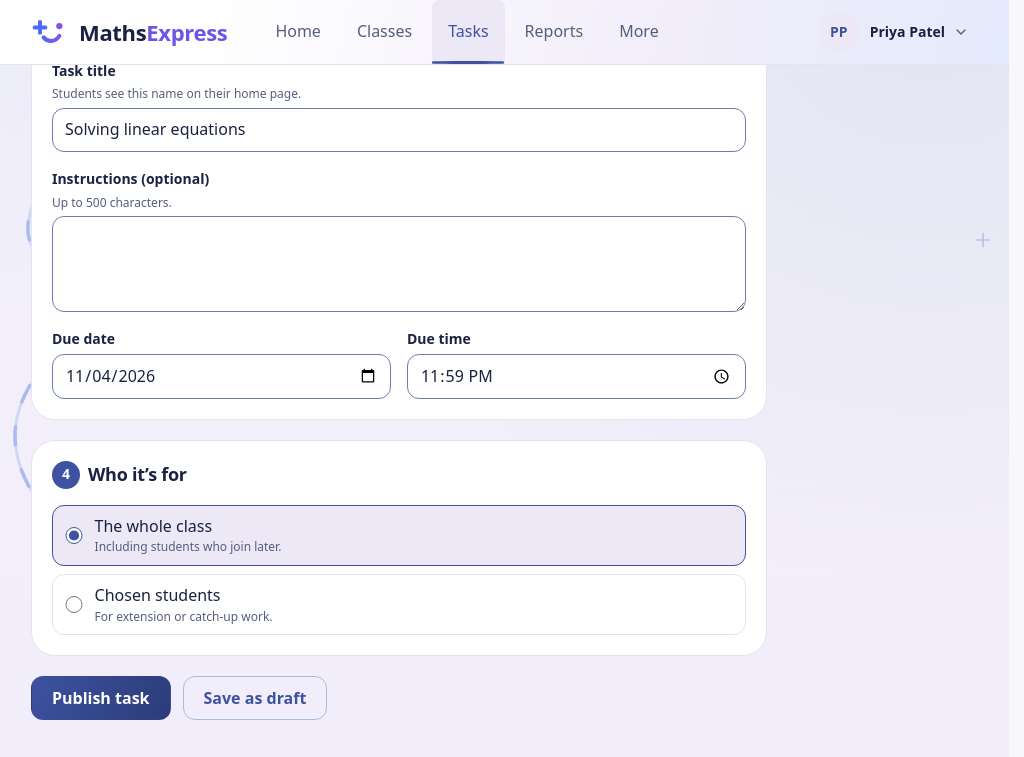
creating a task › saves a draft that students can’t see, and publishes it later
(page scrolled)
Click the button "Save as draft": (255, 698) [182,676,327,720]
(page scrolled)
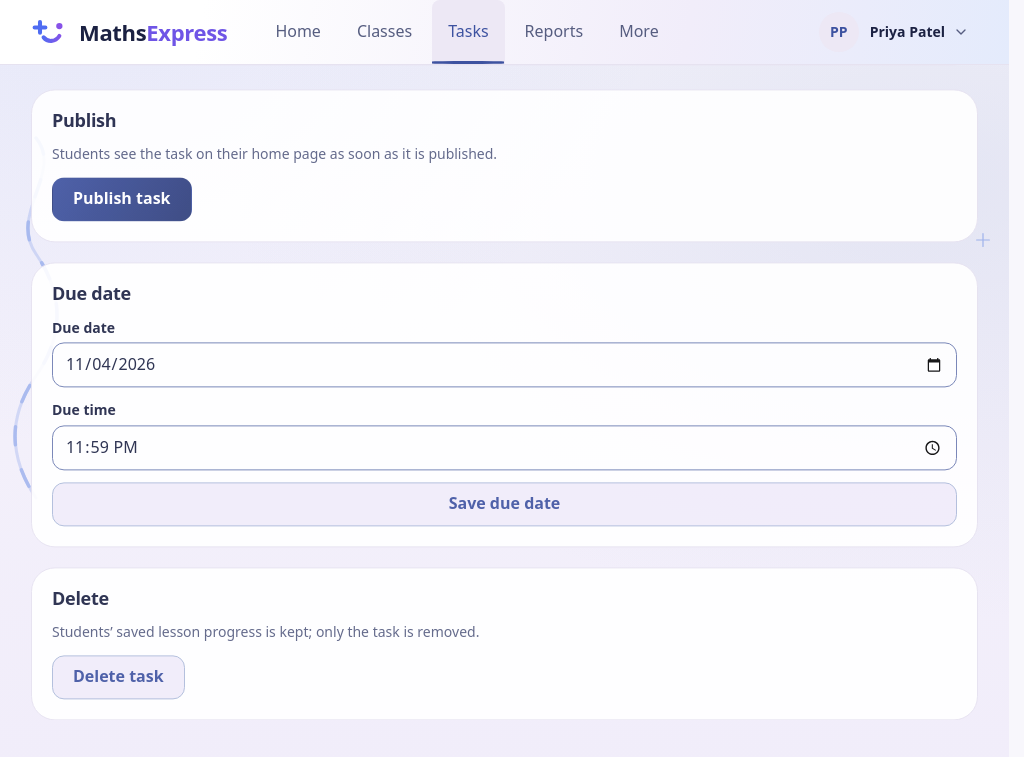
Click the button "Publish task": (122, 199) [52,177,192,221]
(page scrolled)
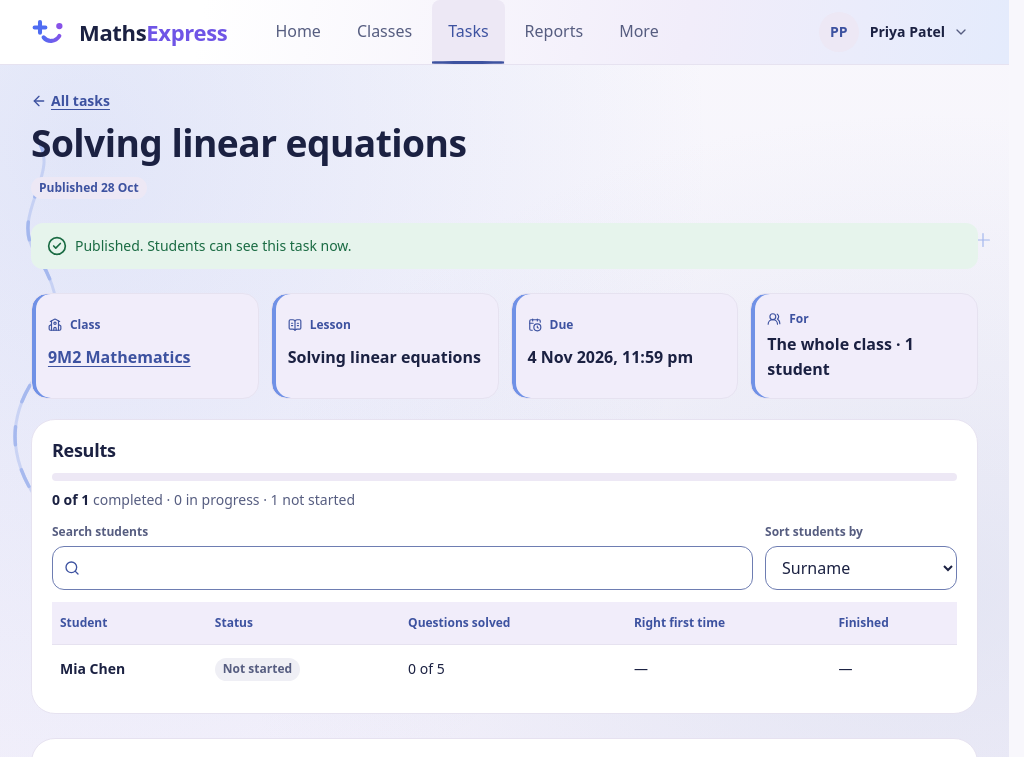
Expected: the text "Published. Students can see this task now." is shown, [75,235,352,257]
